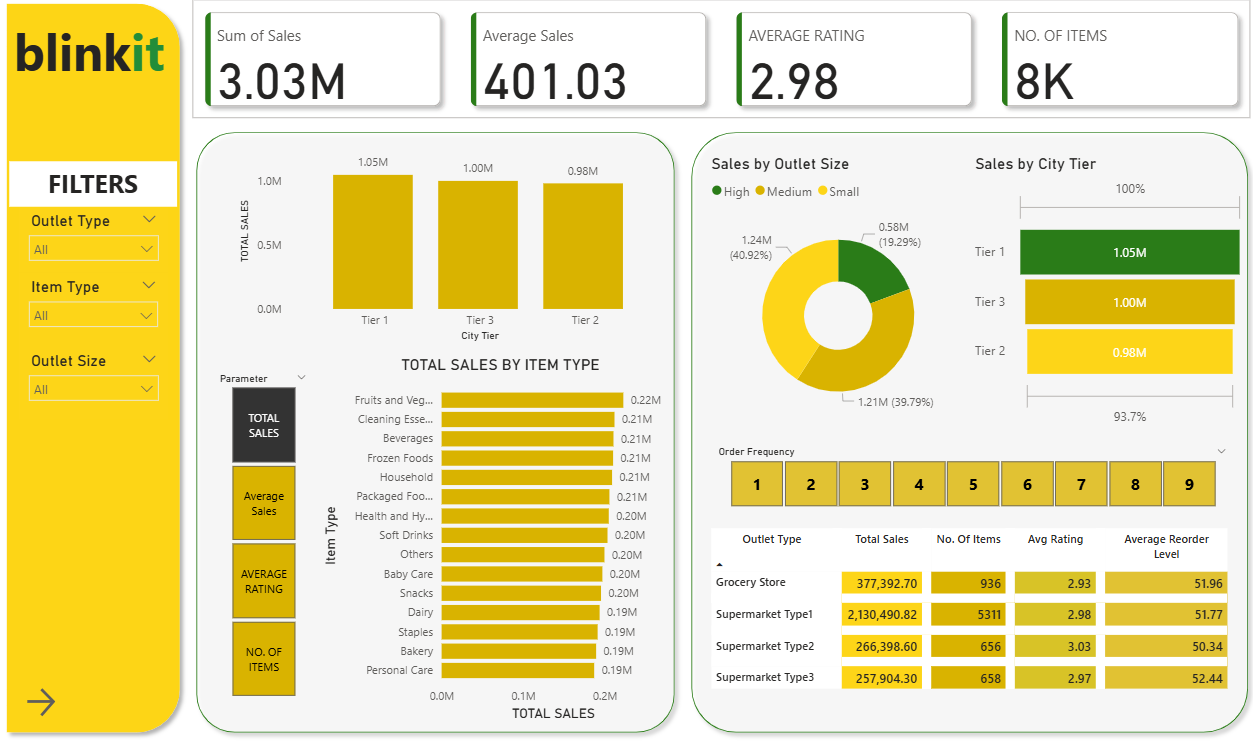

What the dashboard file says about the page in this screenshot:
{"tool":"powerbi","page":{"name":"1","canvas":[1350,800],"ordinal":0},"visuals":[{"type":"shape","box":[0,0,204.1,800.3],"z":0},{"type":"textbox","box":[11.6,18.8,230.1,83.9],"z":1000},{"type":"cardVisual","fields":{"Data":["Sum(blinkit_transformed_dashboard_d.Sales)","blinkit_transformed_dashboard_d.Average Sales","blinkit_transformed_dashboard_d.AVERAGE RATING","blinkit_transformed_dashboard_d.NO. OF ITEMS"]},"box":[204.1,0,1146.2,137.5],"z":2000},{"type":"shape","box":[203.8,138.1,530.8,662],"z":3000},{"type":"columnChart","title":"SALES BY CITY TIER","fields":{"Y":["blinkit_transformed_dashboard_d.TOTAL SALES"],"Category":["blinkit_transformed_dashboard_d.City Tier"]},"box":[254.7,155.5,470.5,221.2],"z":4000},{"type":"barChart","title":"TOTAL SALES BY ITEM TYPE","fields":{"Y":["blinkit_transformed_dashboard_d.TOTAL SALES"],"Category":["blinkit_transformed_dashboard_d.Item Type"]},"box":[343.2,386.1,391.4,398.1],"z":5000},{"type":"slicer","fields":{"Values":["Parameter.Parameter"]},"box":[225.2,399.5,118,359.3],"z":6000},{"type":"shape","box":[735,138,615,662],"z":7000},{"type":"donutChart","title":"Sales by Outlet Size","fields":{"Y":["Sum(blinkit_transformed_dashboard_d.Sales)"],"Series":["blinkit_transformed_dashboard_d.Outlet Size"]},"box":[760.1,170.2,282.8,298.9],"z":8000},{"type":"funnel","title":"Sales by City Tier","fields":{"Y":["Sum(blinkit_transformed_dashboard_d.Sales)"],"Category":["blinkit_transformed_dashboard_d.City Tier"]},"box":[1042.9,170.2,298.9,298.9],"z":9000},{"type":"pivotTable","fields":{"Rows":["blinkit_transformed_dashboard_d.Outlet Type"],"Values":["blinkit_transformed_dashboard_d.TOTAL SALES","blinkit_transformed_dashboard_d.NO. OF ITEMS","blinkit_transformed_dashboard_d.AVERAGE RATING","Avg(blinkit_transformed_dashboard_d.Reorder Level)"]},"box":[760.1,567,569.7,202.4],"z":10000},{"type":"slicer","fields":{"Values":["blinkit_transformed_dashboard_d.Order Frequency"]},"box":[760.1,478.6,569.7,76.4],"z":11000},{"type":"slicer","fields":{"Values":["blinkit_transformed_dashboard_d.Outlet Type"]},"box":[23,227,159.5,79.7],"z":12000},{"type":"slicer","fields":{"Values":["blinkit_transformed_dashboard_d.Outlet Size"]},"box":[23,377,159.5,78.4],"z":13000},{"type":"slicer","fields":{"Values":["blinkit_transformed_dashboard_d.Item Type"]},"box":[23,297.3,159,79.7],"z":14000},{"type":"textbox","box":[12.2,178.4,179.7,48.6],"z":15000},{"type":"actionButton","box":[25.5,738.6,156.8,40.2],"z":16000}]}

Visuals, with their boxes in screenshot pixels (x1, y1, x2, y2), scaled from the page's 1350x800 canvas onto the 1253x741 screenshot:
shape: [x1=0, y1=0, x2=189, y2=740]
textbox: [x1=11, y1=17, x2=224, y2=95]
cardVisual - Sum(blinkit_transformed_dashboard_d.Sales) x blinkit_transformed_dashboard_d.Average Sales: [x1=189, y1=0, x2=1252, y2=127]
shape: [x1=189, y1=128, x2=682, y2=740]
"SALES BY CITY TIER" columnChart: [x1=236, y1=144, x2=673, y2=349]
"TOTAL SALES BY ITEM TYPE" barChart: [x1=319, y1=358, x2=682, y2=726]
slicer - Parameter.Parameter: [x1=209, y1=370, x2=319, y2=703]
shape: [x1=682, y1=128, x2=1252, y2=740]
"Sales by Outlet Size" donutChart: [x1=705, y1=158, x2=968, y2=435]
"Sales by City Tier" funnel: [x1=968, y1=158, x2=1245, y2=435]
pivotTable - blinkit_transformed_dashboard_d.Outlet Type x blinkit_transformed_dashboard_d.TOTAL SALES: [x1=705, y1=525, x2=1234, y2=713]
slicer - blinkit_transformed_dashboard_d.Order Frequency: [x1=705, y1=443, x2=1234, y2=514]
slicer - blinkit_transformed_dashboard_d.Outlet Type: [x1=21, y1=210, x2=169, y2=284]
slicer - blinkit_transformed_dashboard_d.Outlet Size: [x1=21, y1=349, x2=169, y2=422]
slicer - blinkit_transformed_dashboard_d.Item Type: [x1=21, y1=275, x2=169, y2=349]
textbox: [x1=11, y1=165, x2=178, y2=210]
actionButton: [x1=24, y1=684, x2=169, y2=721]
